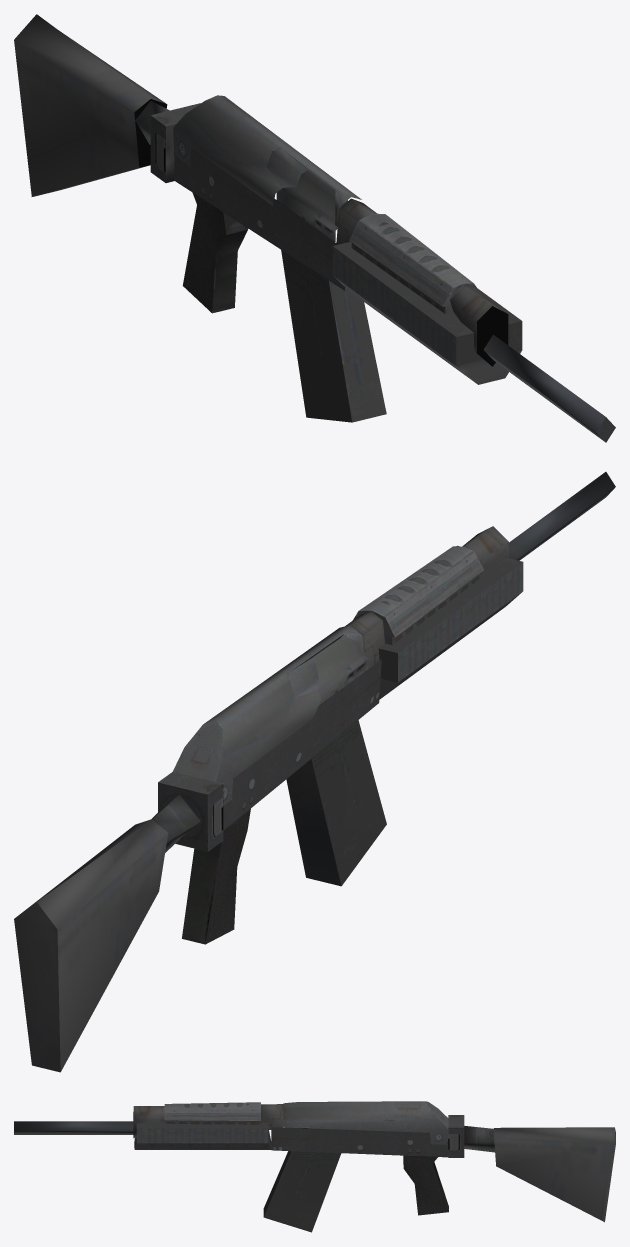
File: Shotgun_Saiga12_Shotgun_Body_LOD_(000559).glb
3 views of the same model, one above another, from view 1: azimuth 30°, elevation 25°; view 2: azimuth 150°, elevation 25°; view 3: azimuth 270°, elevation 25° (orthographic). The views are drawn at different scales.
Visible parts, largest first — view 1: SG_saiga12_lod2; view 2: SG_saiga12_lod2; view 3: SG_saiga12_lod2.
Boxes of the visible parts, x1,y1,x2,y2 form: SG_saiga12_lod2: (14,14,615,442); SG_saiga12_lod2: (14,472,615,1072); SG_saiga12_lod2: (14,1101,615,1232).
Size of the model in its own units: 0.0735 by 0.2554 by 1.1.
1 material, 1 textured.
